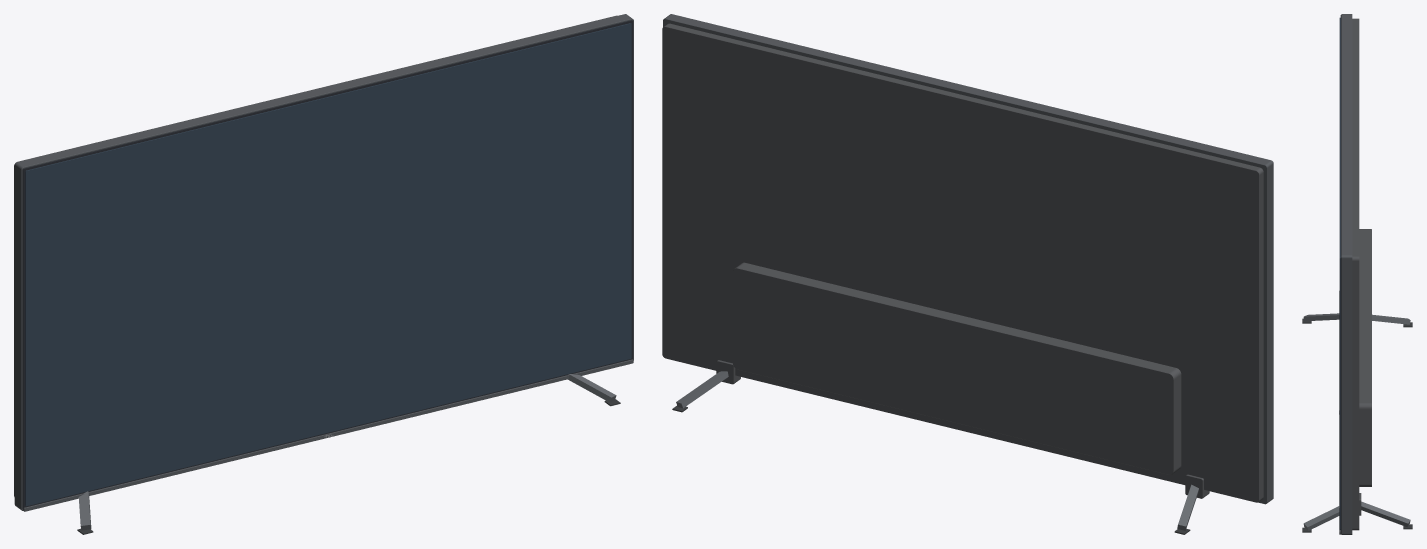
The picture shows the model from 3 angles, left to right: view 1: azimuth 30°, elevation 25°; view 2: azimuth 150°, elevation 25°; view 3: azimuth 270°, elevation 25°; orthographic projection. The views are drawn at different scales.
Visible parts, largest first — view 1: Display glass, Full slim display frame, Inner black glass border, Bottom chin, Rear panel shell; view 2: Rear panel shell, Lower rear electronics housing, Full slim display frame; view 3: Full slim display frame, Rear panel shell, Lower rear electronics housing, Inner black glass border, Display glass, Right rear swept foot, Right front swept foot, Left rear swept foot, Left front swept foot, Bottom chin.
Boxes of the visible parts, bbox=[...] form: Display glass: bbox=[25, 23, 631, 506]; Full slim display frame: bbox=[14, 14, 633, 510]; Inner black glass border: bbox=[22, 20, 633, 509]; Bottom chin: bbox=[23, 359, 633, 511]; Rear panel shell: bbox=[14, 15, 617, 496]; Rear panel shell: bbox=[662, 23, 1263, 502]; Lower rear electronics housing: bbox=[733, 262, 1181, 474]; Full slim display frame: bbox=[663, 14, 1273, 504]; Full slim display frame: bbox=[1341, 14, 1352, 534]; Rear panel shell: bbox=[1352, 18, 1359, 530]; Lower rear electronics housing: bbox=[1359, 229, 1371, 486]; Inner black glass border: bbox=[1340, 15, 1341, 533]; Display glass: bbox=[1339, 17, 1340, 529]; Right rear swept foot: bbox=[1361, 501, 1410, 527]; Right front swept foot: bbox=[1303, 506, 1339, 530]; Left rear swept foot: bbox=[1372, 314, 1410, 324]; Left front swept foot: bbox=[1303, 313, 1339, 321]; Bottom chin: bbox=[1339, 291, 1341, 534].
Size of the model in its own units: 2.18 by 1.22 by 0.4191.
